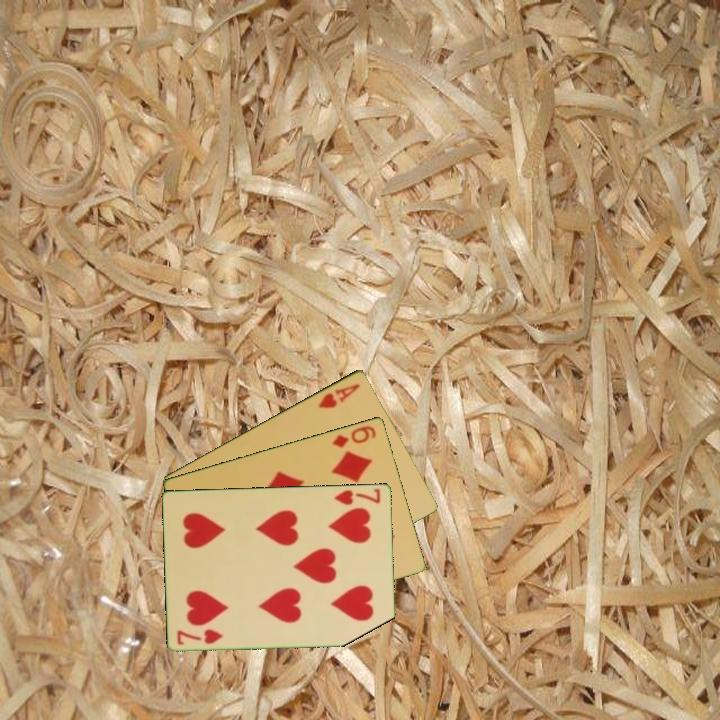6d: (328, 422, 379, 450)
7h: (331, 485, 384, 507), (174, 625, 226, 647)
Ah: (315, 380, 363, 411)
